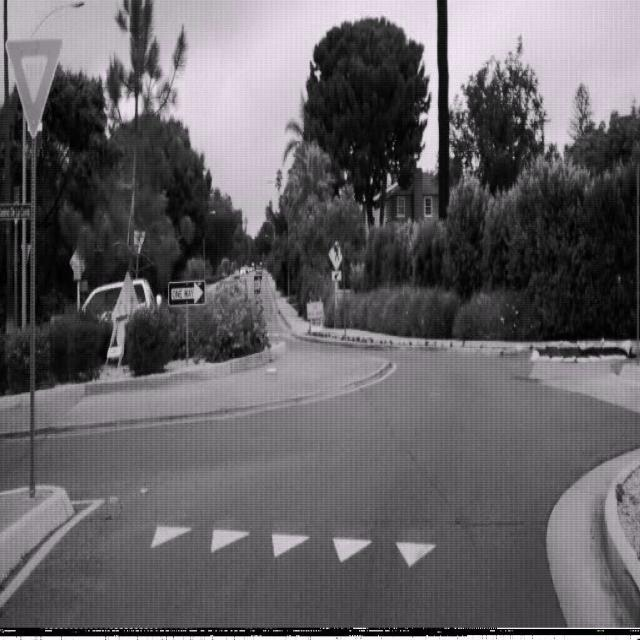yield: (5, 36, 63, 138)
